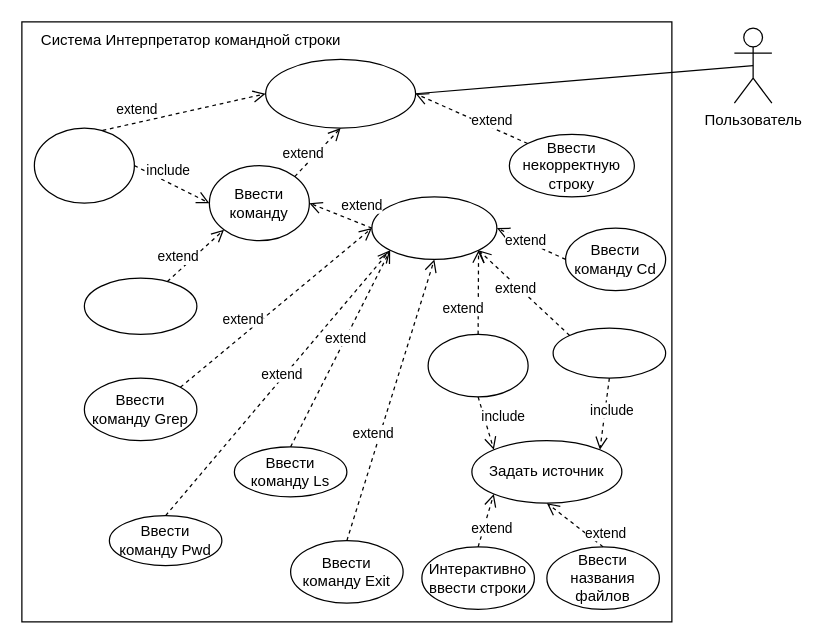
Some shapes in this 824 by 644 pixel diagram are drawn without their labels. The box of each missing label's shape, as (x1, y1, x2, y2) in pixels:
Ввести pipeline команд: (33, 127, 134, 203)
Ввести внешнюю команду: (83, 277, 197, 334)
Ввести внутреннюю команду: (371, 196, 497, 259)
Ввести команду Cat: (427, 333, 528, 397)
Ввести команду Wc: (552, 327, 666, 378)
Ввести строку в консоль интерпретатора: (264, 58, 416, 128)
